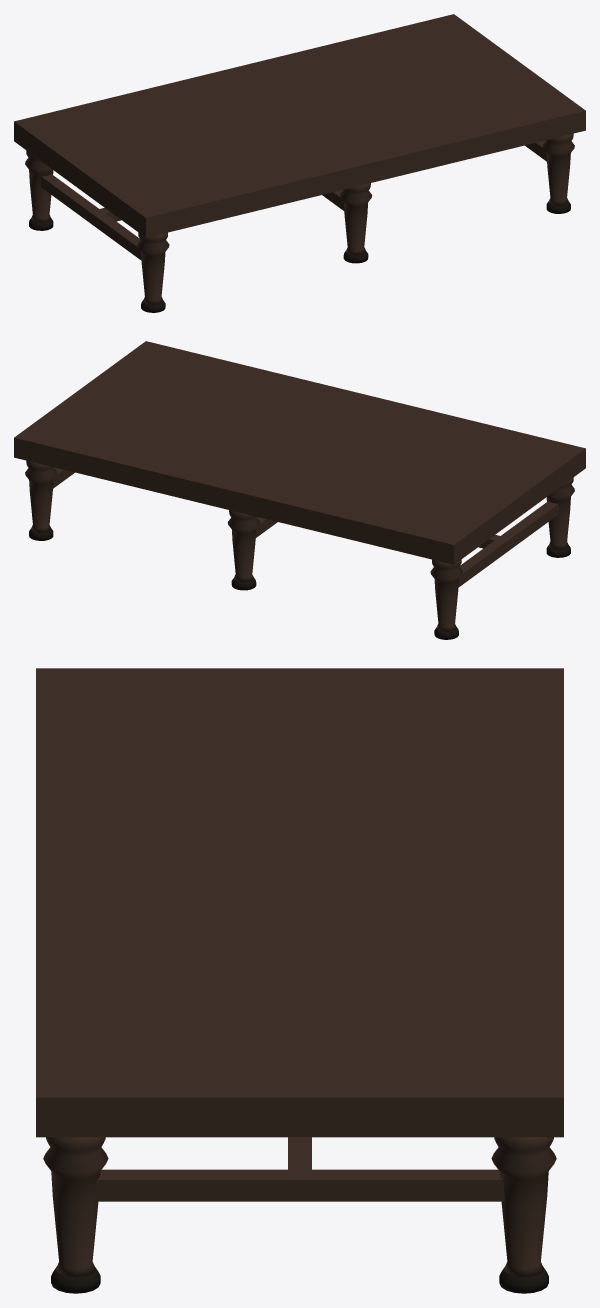
File: legs-caromMedium.glb
The picture shows the model from 3 angles, top to bottom: view 1: azimuth 30°, elevation 25°; view 2: azimuth 150°, elevation 25°; view 3: azimuth 270°, elevation 25°; orthographic projection. The views are drawn at different scales.
Parts seen in each view (by area): view 1: Support_caromMedium, Cross_caromMedium_0.05, Leg_caromMedium_00, Leg_caromMedium_10, Leg_caromMedium_20, Leg_caromMedium_01; view 2: Support_caromMedium, Cross_caromMedium_0.05, Leg_caromMedium_01, Leg_caromMedium_11, Leg_caromMedium_21, Leg_caromMedium_00; view 3: Support_caromMedium, Cross_caromMedium_2.40, Leg_caromMedium_10, Leg_caromMedium_11, Foot_caromMedium_10, Foot_caromMedium_11, Stretcher_caromMedium.
Part boxes in pixels (<box>): Support_caromMedium: <box>14,14,585,237</box>; Cross_caromMedium_0.05: <box>41,174,141,260</box>; Leg_caromMedium_00: <box>137,232,169,304</box>; Leg_caromMedium_10: <box>542,133,574,205</box>; Leg_caromMedium_20: <box>340,183,372,255</box>; Leg_caromMedium_01: <box>25,150,53,222</box>; Support_caromMedium: <box>14,341,585,564</box>; Cross_caromMedium_0.05: <box>458,501,558,587</box>; Leg_caromMedium_01: <box>430,559,462,631</box>; Leg_caromMedium_11: <box>25,460,57,532</box>; Leg_caromMedium_21: <box>227,510,259,582</box>; Leg_caromMedium_00: <box>546,477,574,549</box>; Support_caromMedium: <box>36,668,563,1137</box>; Cross_caromMedium_2.40: <box>95,1169,504,1201</box>; Leg_caromMedium_10: <box>43,1137,108,1277</box>; Leg_caromMedium_11: <box>491,1137,556,1277</box>; Foot_caromMedium_10: <box>51,1267,100,1293</box>; Foot_caromMedium_11: <box>499,1267,548,1293</box>; Stretcher_caromMedium: <box>288,1137,311,1174</box>.
Size of the model in its own units: 2.55 by 0.56 by 1.32.
